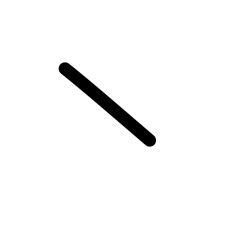b: (44, 52, 184, 156)
